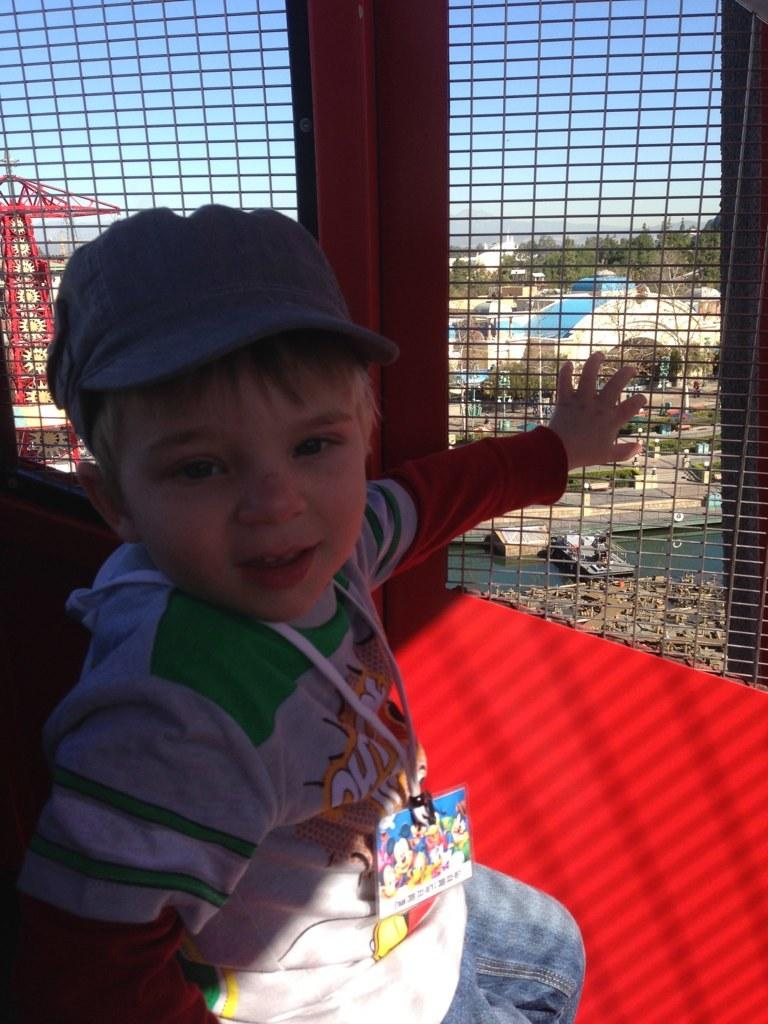Hat: (45, 200, 404, 438)
